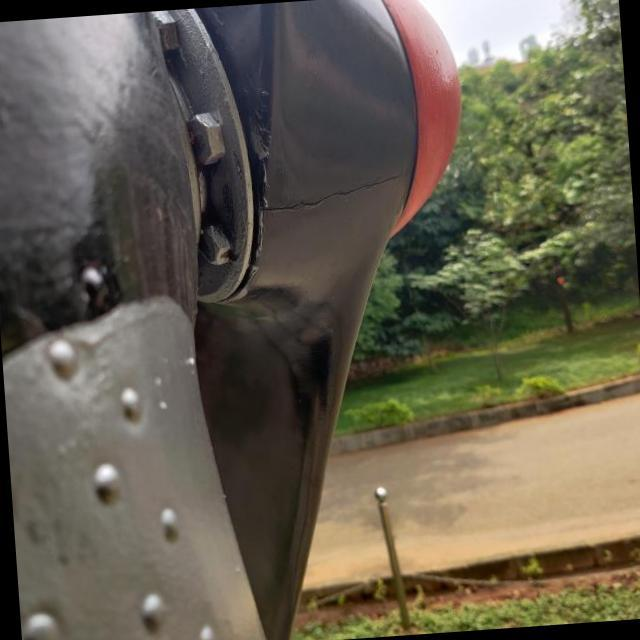Rupture: (256, 155, 415, 232)
